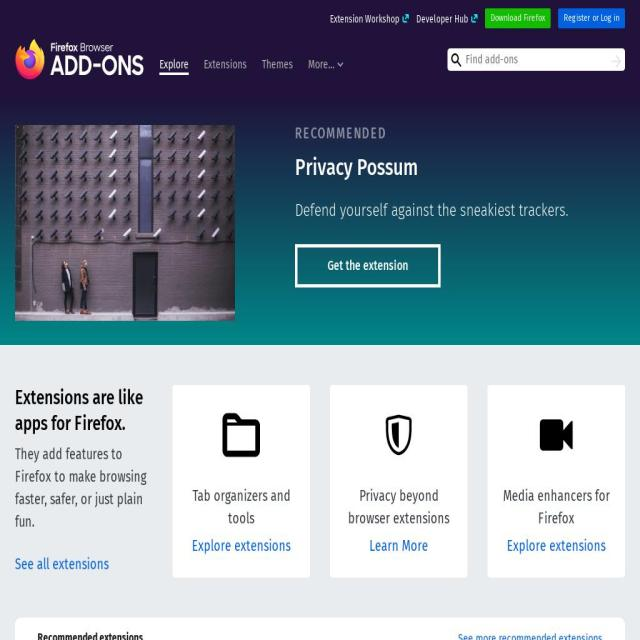button: (295, 244, 441, 288), (452, 621, 609, 640), (187, 534, 295, 558), (345, 534, 453, 558), (502, 534, 610, 558), (329, 8, 409, 28), (484, 8, 552, 28), (558, 8, 626, 28), (416, 8, 478, 28), (204, 56, 247, 76), (308, 58, 343, 76), (262, 56, 293, 76), (159, 56, 189, 76), (607, 52, 625, 72)
field: (447, 47, 625, 71)
heading: (295, 153, 625, 181), (15, 384, 153, 437), (15, 39, 144, 79)
image: (15, 125, 235, 321), (222, 409, 260, 460), (380, 409, 418, 460), (537, 409, 575, 460), (451, 52, 461, 66), (611, 54, 621, 68), (470, 14, 478, 23), (402, 14, 409, 23), (338, 61, 343, 68)
text: (15, 436, 153, 553), (15, 616, 625, 640), (295, 196, 625, 224), (295, 125, 625, 142), (187, 484, 295, 530), (345, 484, 453, 530), (502, 484, 610, 530), (506, 536, 606, 555), (15, 554, 109, 574), (192, 536, 290, 555), (328, 258, 408, 274), (369, 536, 428, 555), (330, 13, 400, 25), (416, 13, 468, 25), (308, 58, 334, 74)
